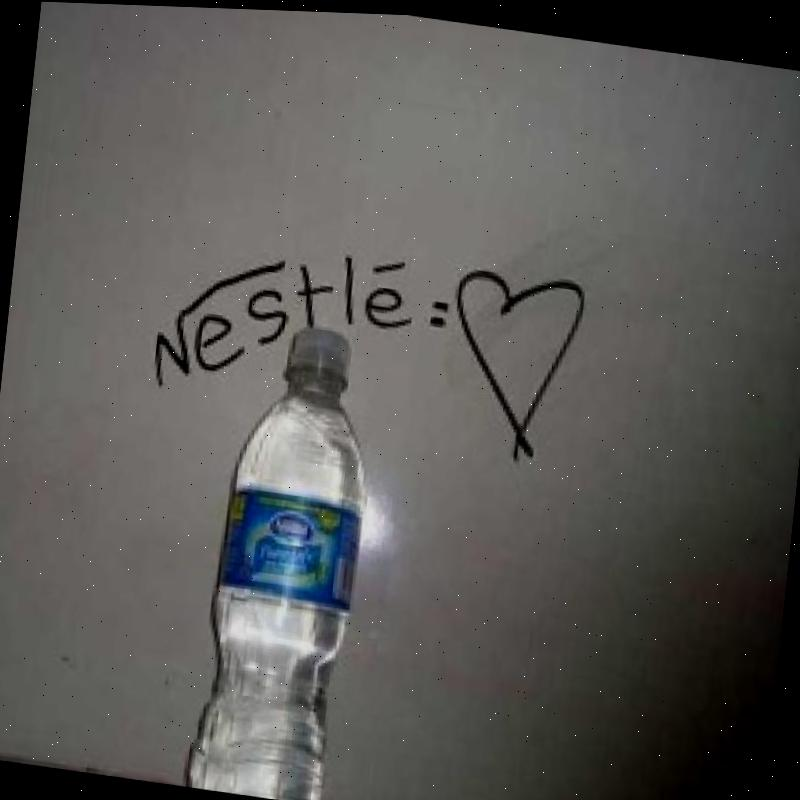botella: (184, 308, 380, 800)
